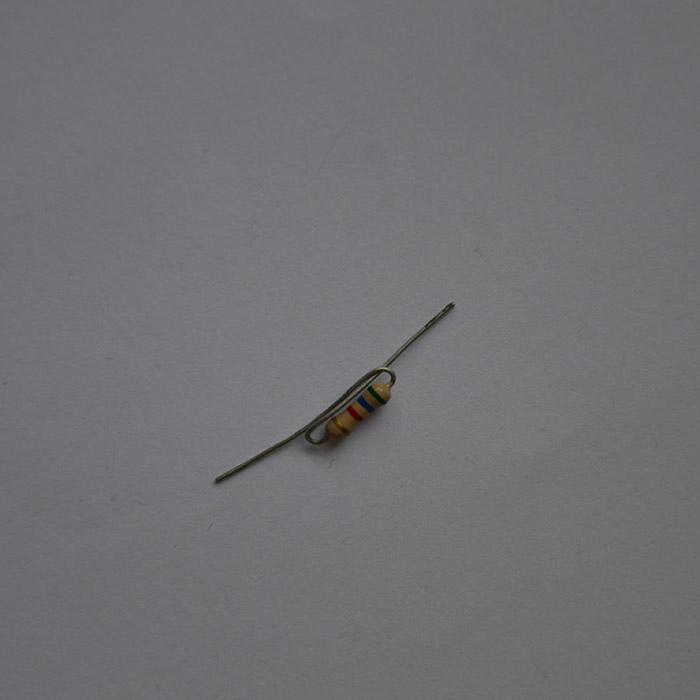resistor: (326, 379, 391, 439)
